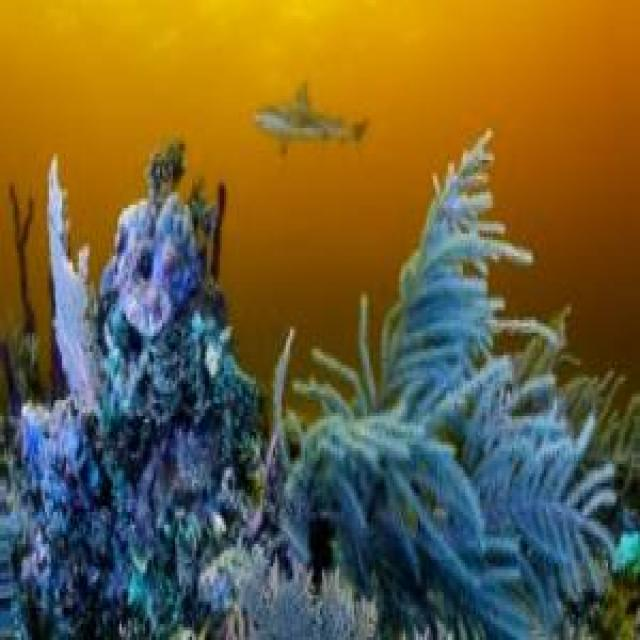Healthy: (272, 331, 391, 439)
